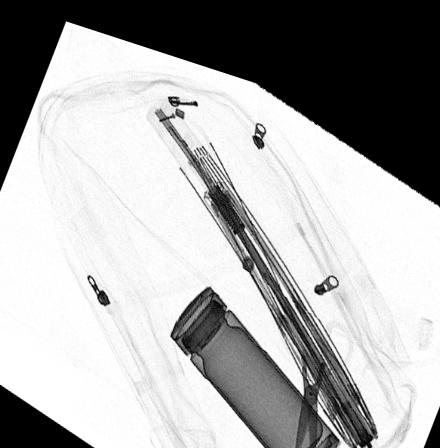Scissors: (283, 286, 352, 448)
